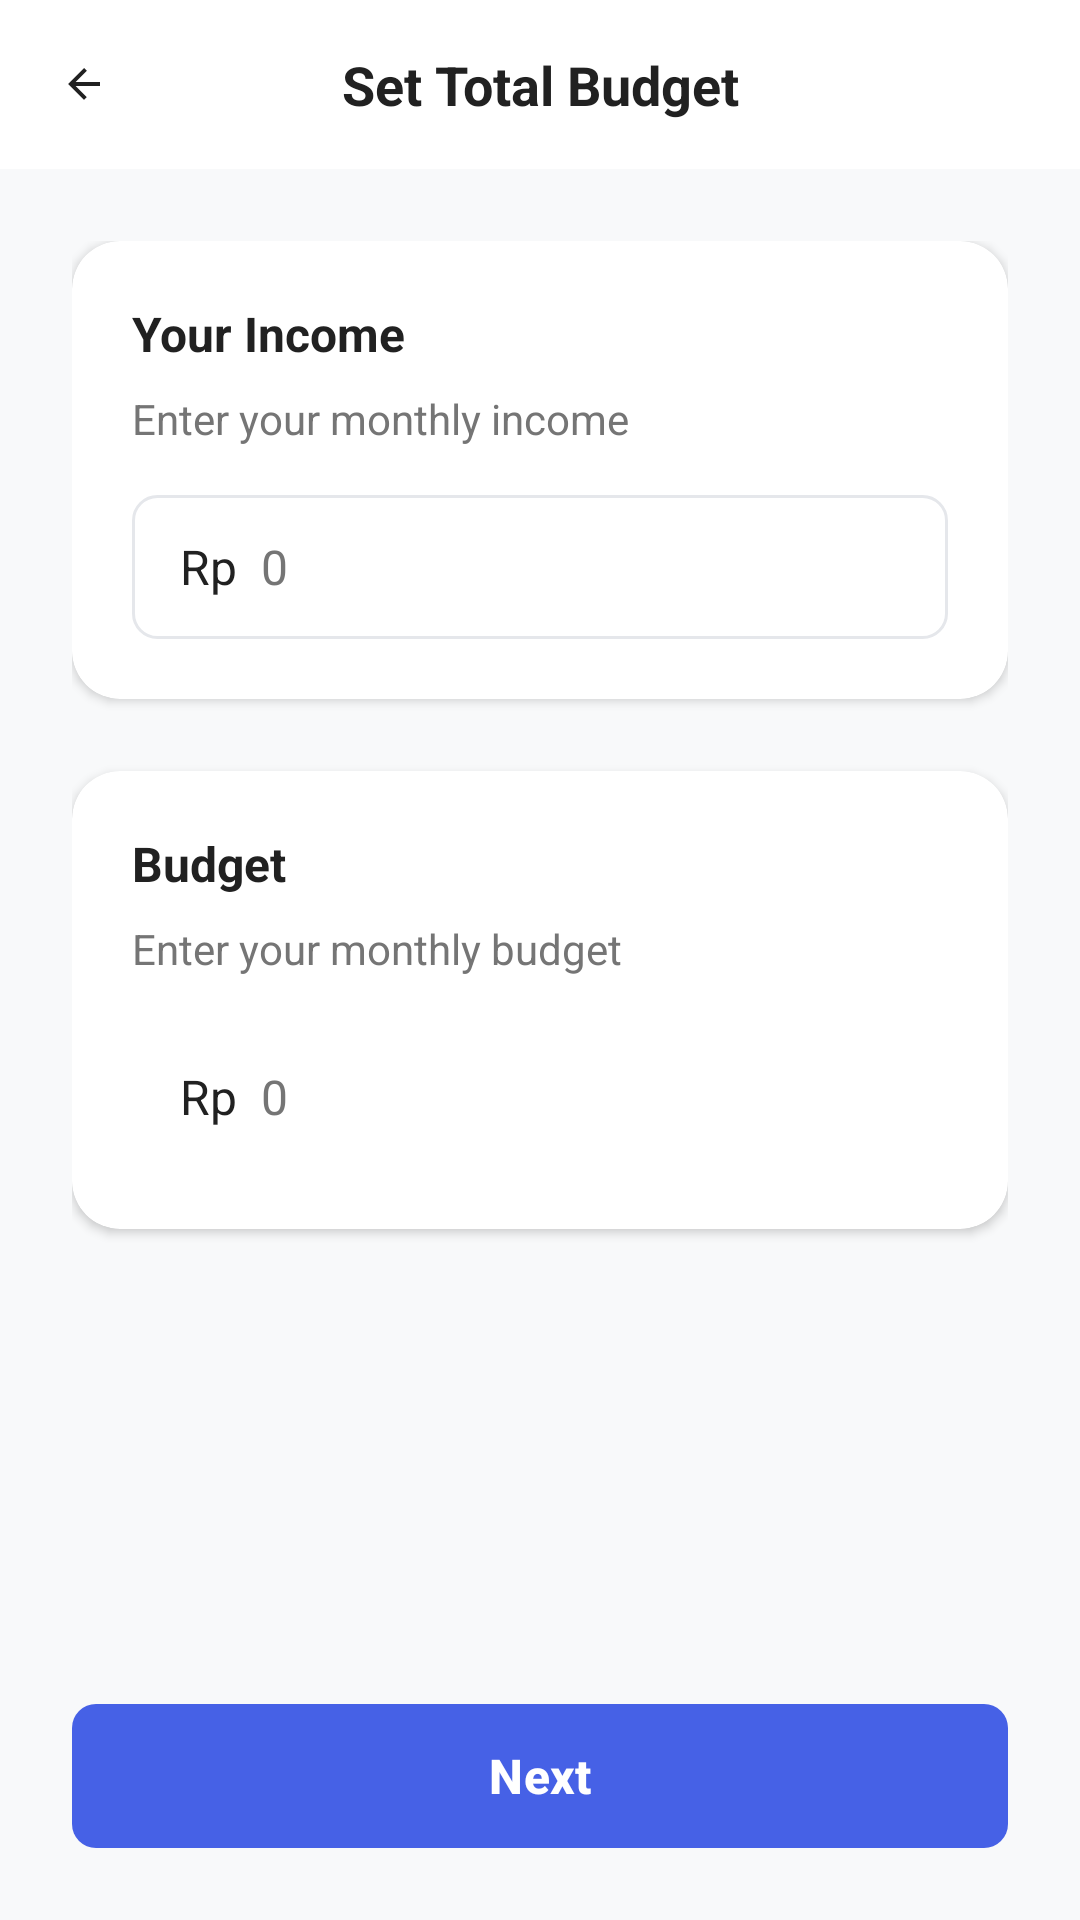

Icons on this 1080x1920 Android screen, each with its box as rect(x1, y1, x2, y2):
arrow back: rect(68, 68, 100, 100)
